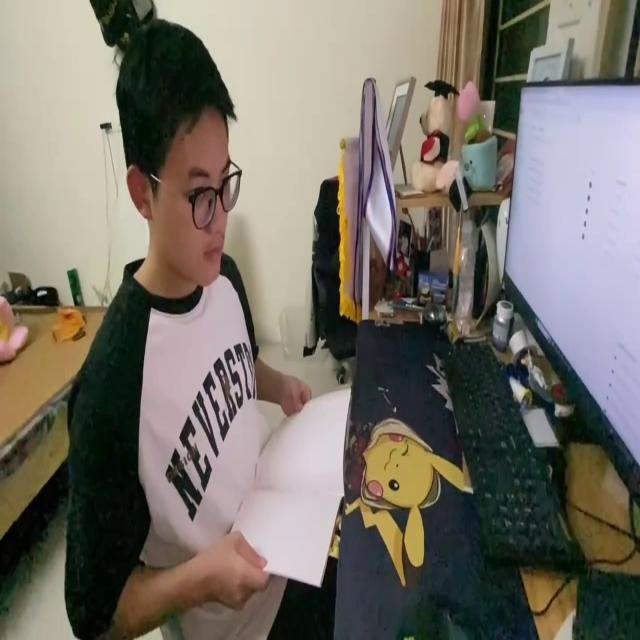book: (226, 375, 349, 591)
laptop: (499, 72, 640, 507)
student: (63, 10, 335, 640)
